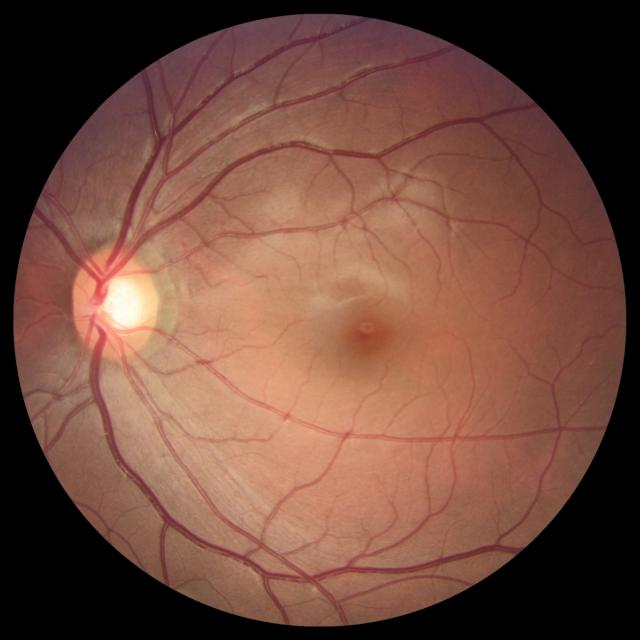OC: (94, 277, 143, 330)
OD: (72, 244, 160, 360)
